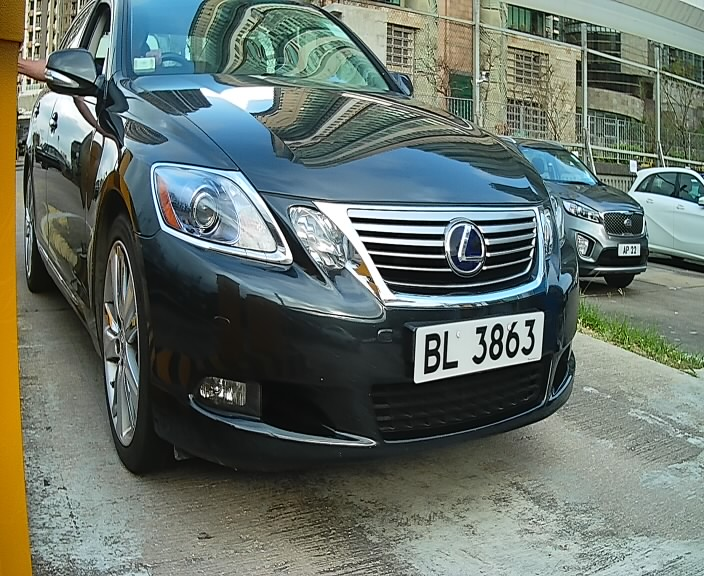Car: (3, 2, 608, 506)
License Plate: (402, 300, 552, 387)
